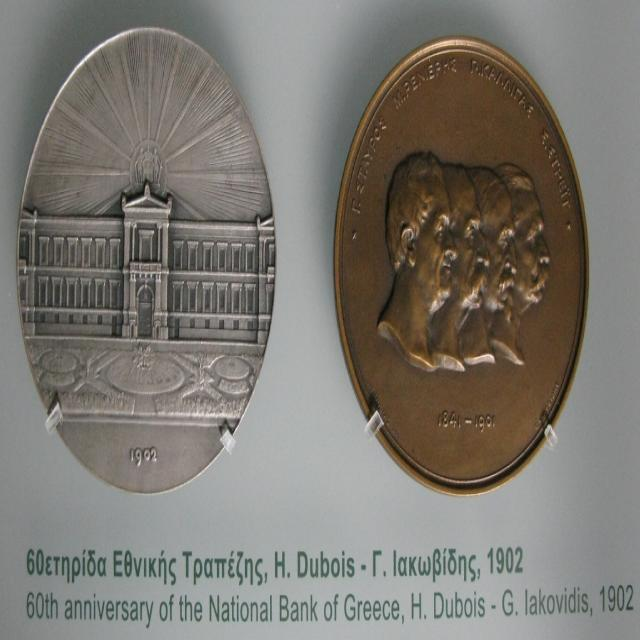Coin: (15, 24, 277, 493), (334, 39, 588, 495)
